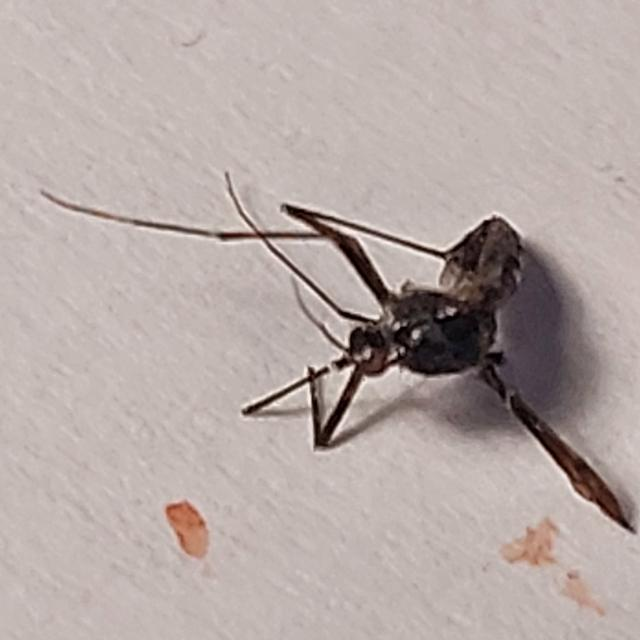albopictus: (124, 137, 619, 532)
